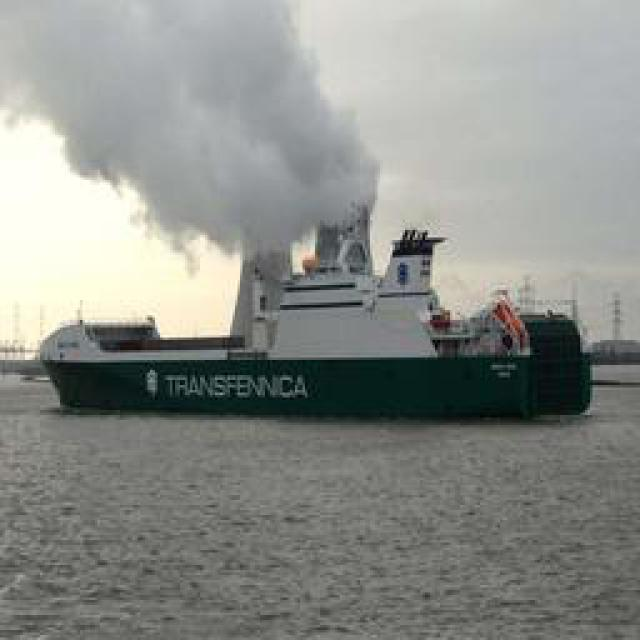Ship: (40, 231, 593, 424)
